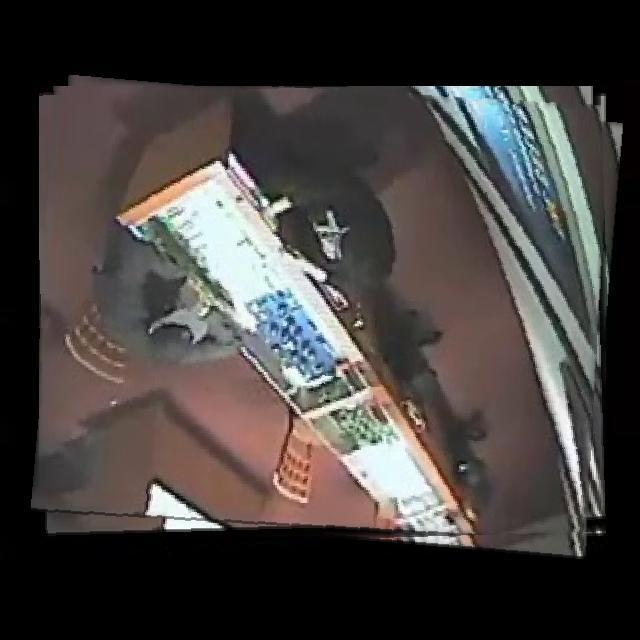Normal: (39, 86, 614, 548)
